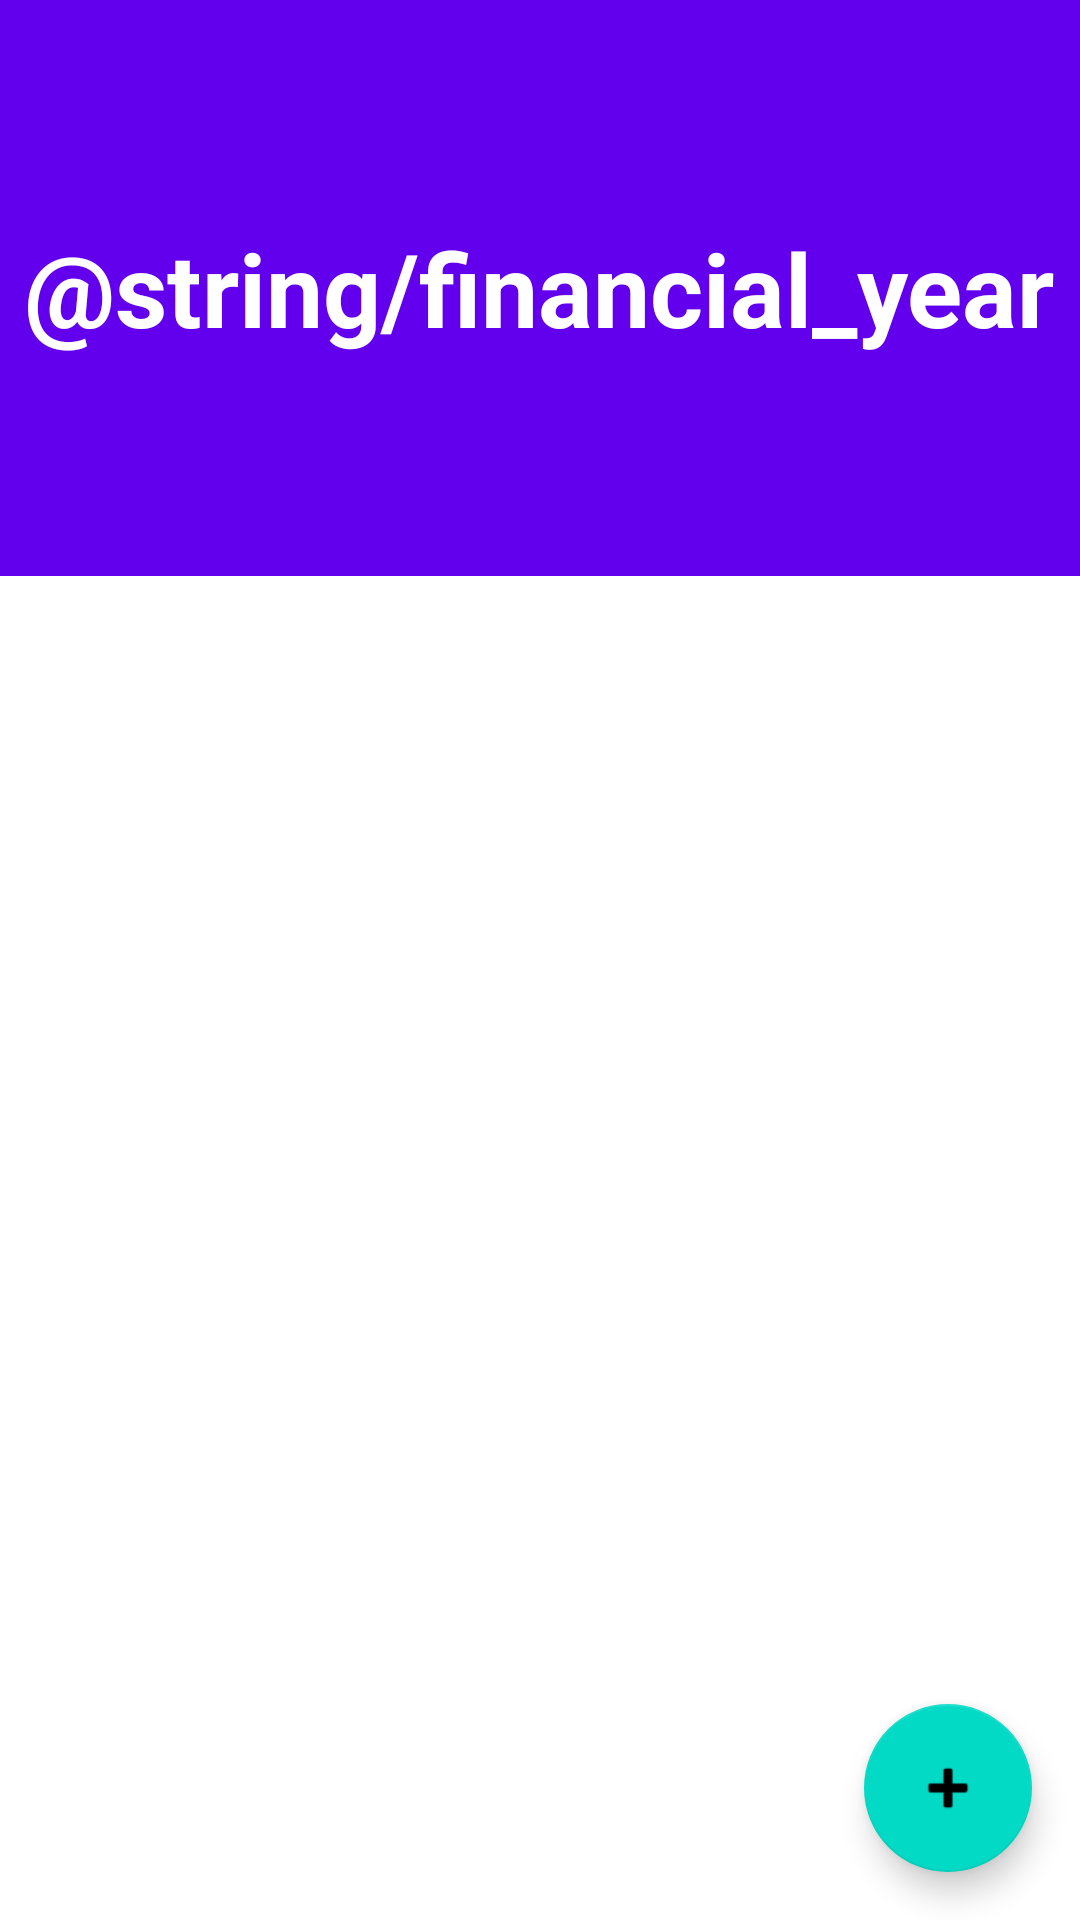

Point at icon controls on the screen. Image size 1080 × 1920, points as point (x, y).
New Trip: point (948, 1788)
